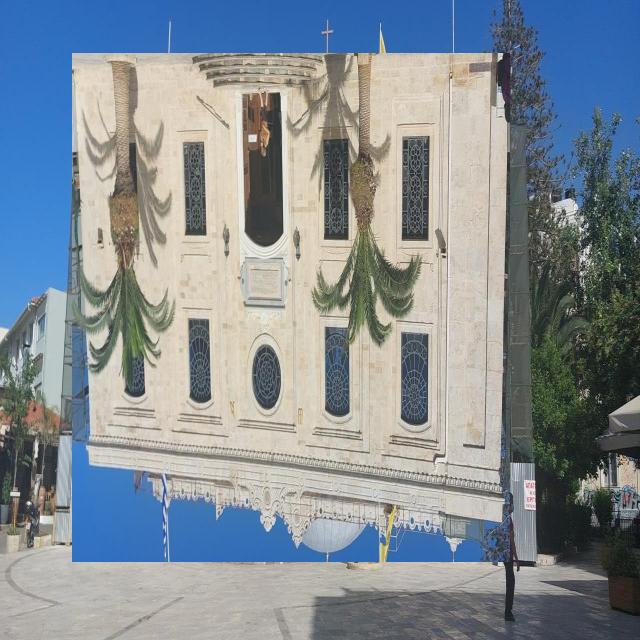Agios Titos: (73, 54, 511, 563)
